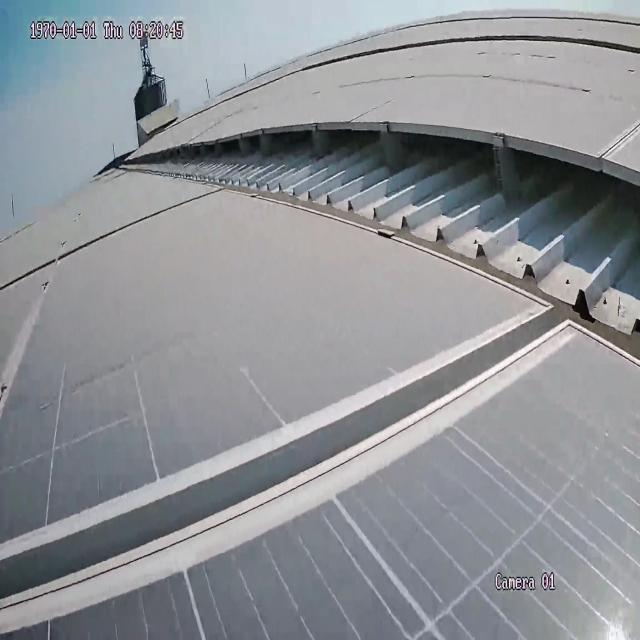interior panel: (0, 179, 582, 640)
outher panel: (114, 126, 640, 352)
